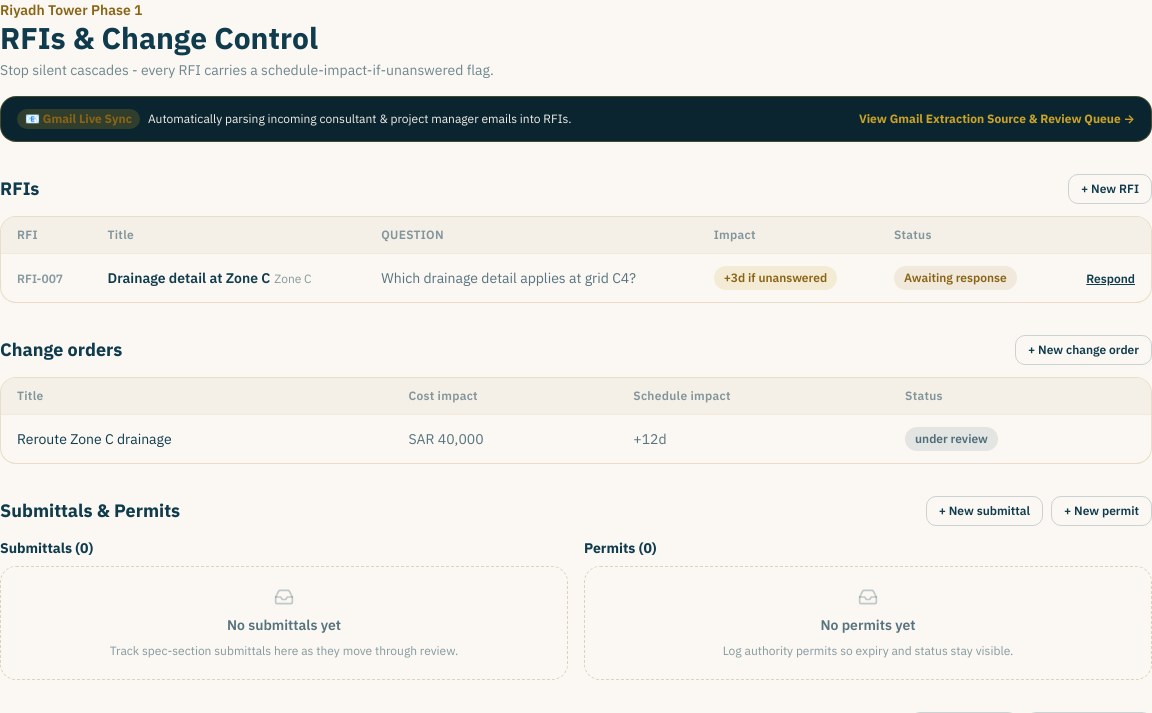
Scenario: RfiChangeControlPage › renders RFIs and change orders, and submits an RFI response from the modal
The width and height of the screenshot is (1152, 713).
Expected: the text "RFI-007" is shown, 17,271 -> 63,286
Expected: the text "Reroute Zone C drainage" is shown, 17,430 -> 172,448
Click the button "Respond".
click(1111, 279)  # box 1086,271 -> 1135,287
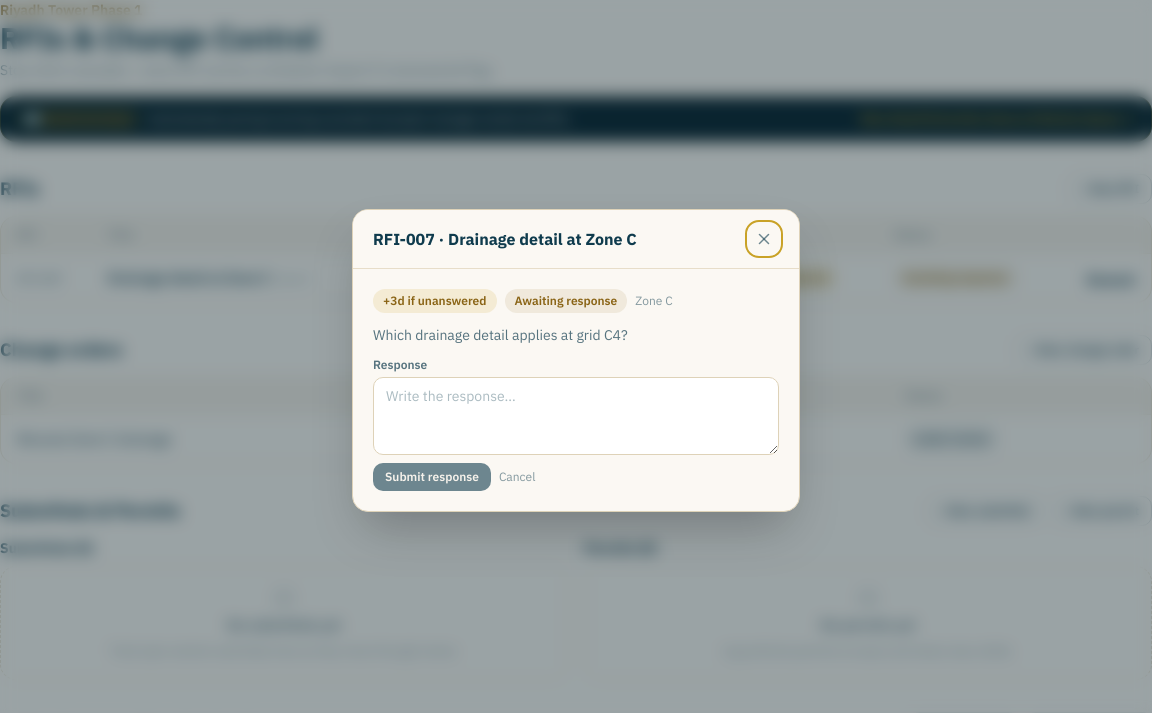
Expected: the text "Which drainage detail applies at grid C4?" is shown, 373,326 -> 628,344
Type "Use detail D-12." into the text box labelled "Response".
click(576, 416); type("Use detail D-12.")  # box 373,376 -> 779,454
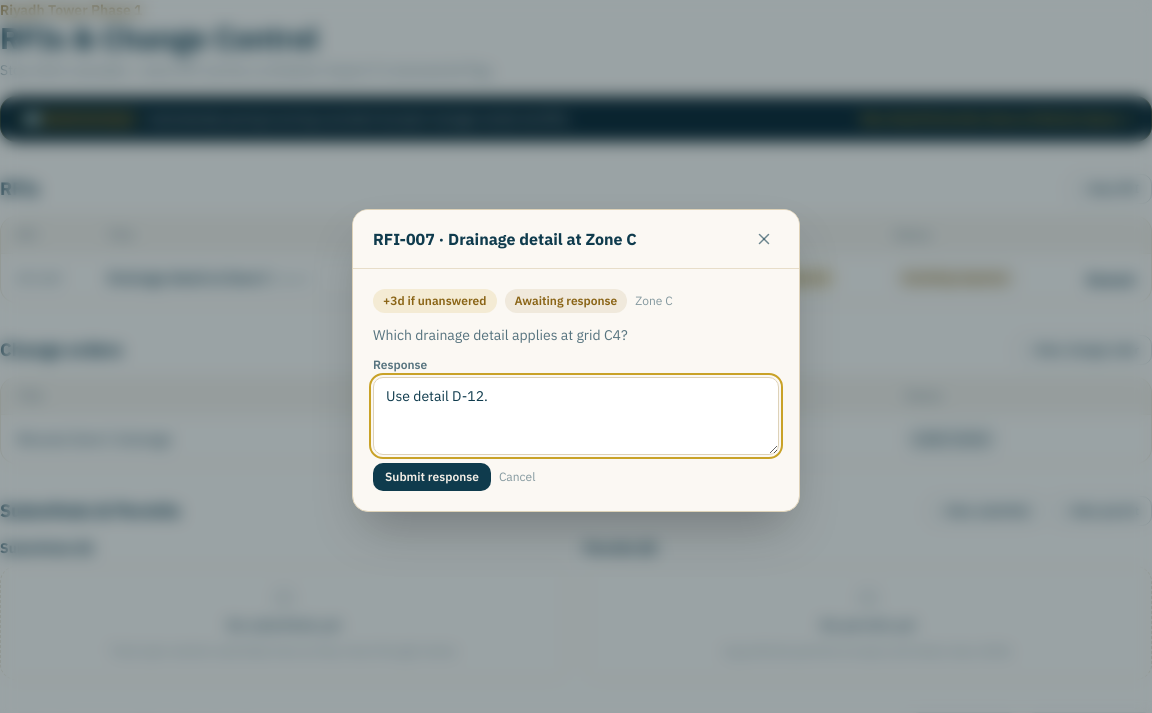
Click the button "Submit response".
click(432, 476)  # box 373,462 -> 491,490
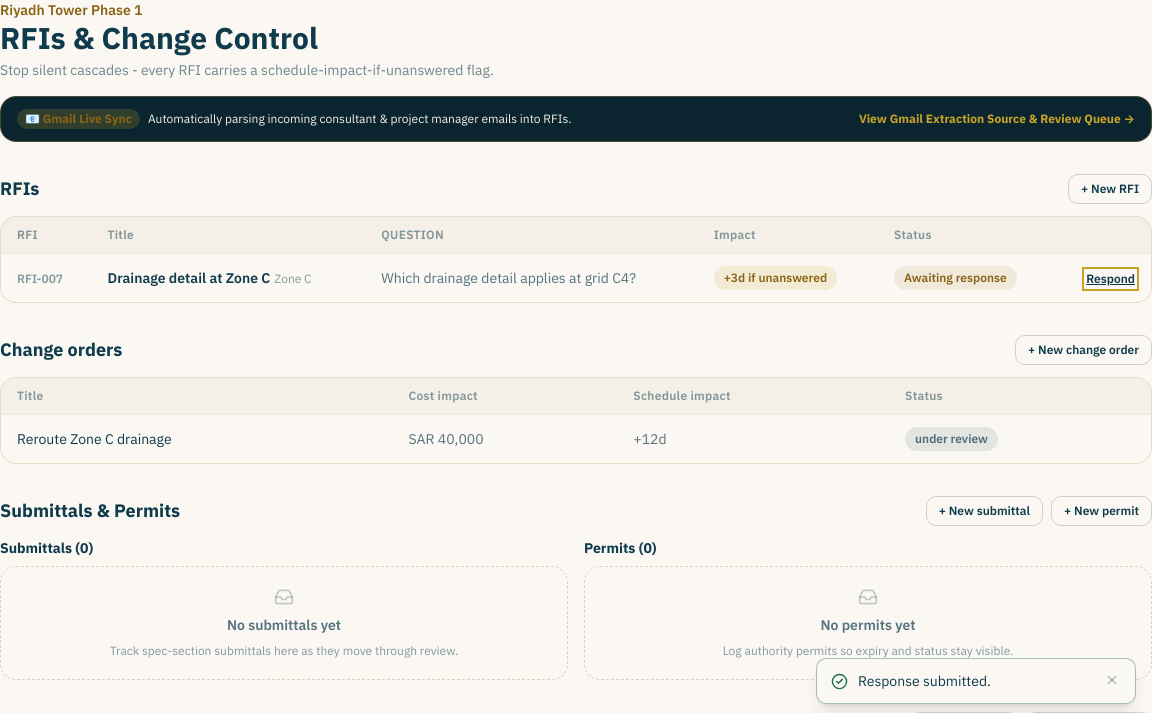
Expected: the dialog is gone
